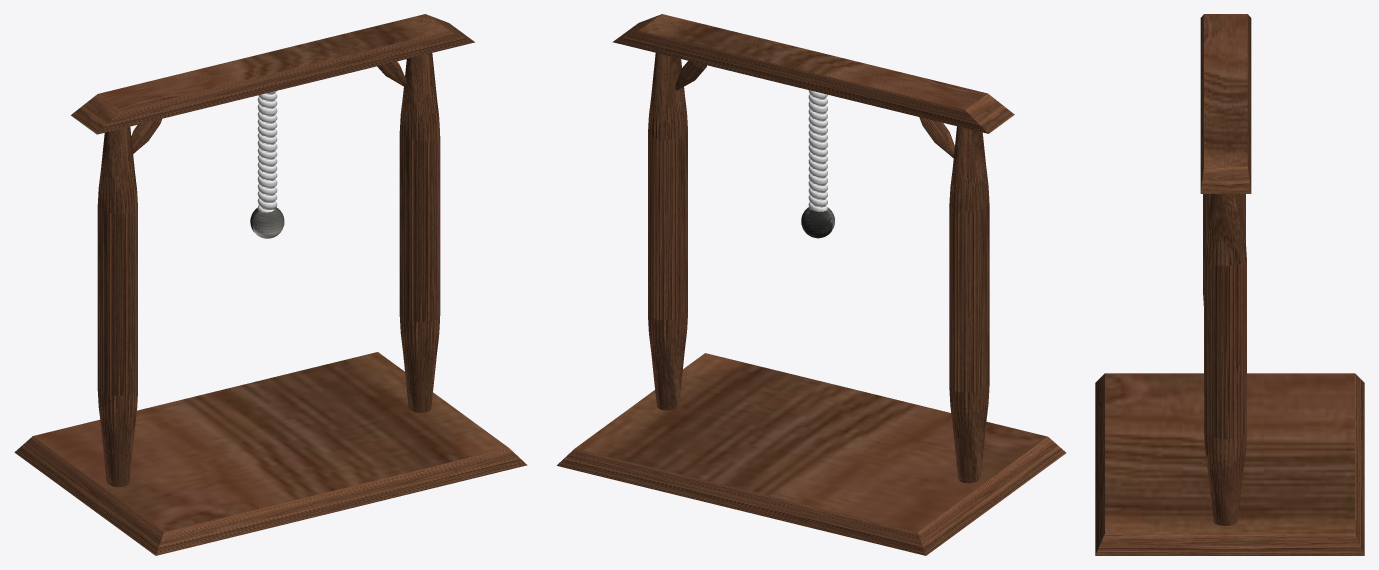
File: springPendulum.glb
3 views of the same model, side by side, from view 1: azimuth 30°, elevation 25°; view 2: azimuth 150°, elevation 25°; view 3: azimuth 270°, elevation 25° (orthographic). The views are drawn at different scales.
Parts seen in each view (by area): view 1: Cube, Cube.001, Cylinder, Cylinder.001, Spring, Sphere; view 2: Cube, Cube.001, Cylinder.001, Cylinder, Spring, Sphere, Cylinder.003; view 3: Cube, Cylinder, Cube.001, Cylinder.001.
Boxes of the visible parts, x1,y1,x2,y2 form: Cube: [14, 352, 527, 555]; Cube.001: [71, 14, 474, 134]; Cylinder: [399, 53, 440, 412]; Cylinder.001: [97, 126, 137, 487]; Spring: [257, 91, 277, 212]; Sphere: [250, 207, 284, 238]; Cube: [556, 353, 1066, 555]; Cube.001: [612, 14, 1014, 133]; Cylinder.001: [949, 126, 989, 483]; Cylinder: [648, 53, 687, 410]; Spring: [808, 90, 827, 211]; Sphere: [801, 205, 834, 238]; Cylinder.003: [919, 117, 954, 157]; Cube: [1095, 373, 1364, 555]; Cylinder: [1204, 194, 1246, 525]; Cube.001: [1200, 14, 1251, 193]; Cylinder.001: [1203, 194, 1245, 305].
Bounding box in the file's own units: 6.38 × 6.41 × 4.13.
8 materials, 2 textured.
